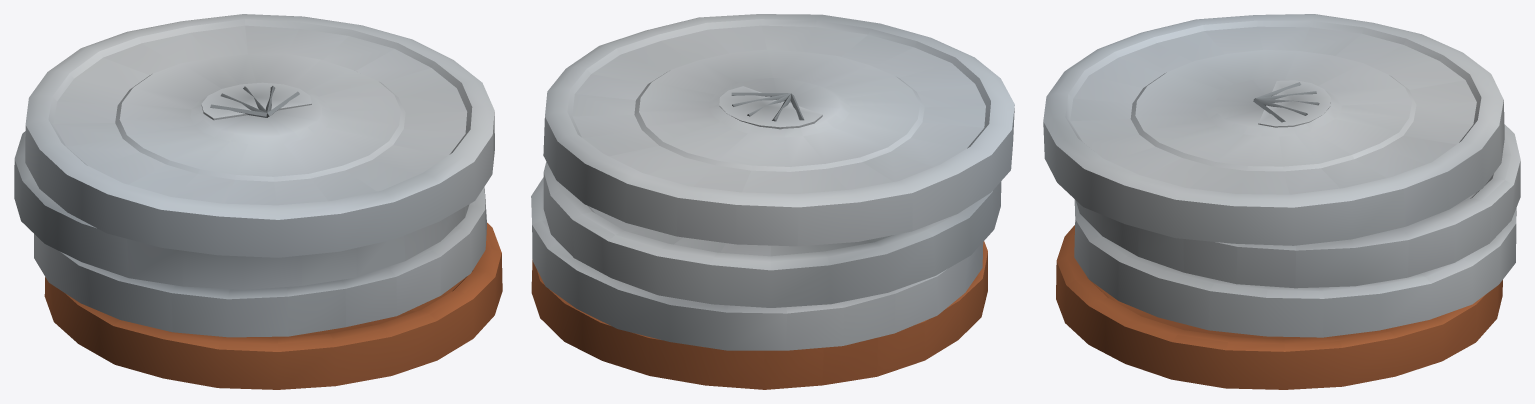
File: grotto_coin_pile_b.glb
3 renders of one model, left to right at view 1: azimuth 30°, elevation 25°; view 2: azimuth 150°, elevation 25°; view 3: azimuth 270°, elevation 25°, orthographic. The views are drawn at different scales.
Parts seen in each view (by area): view 1: grotto_coin_pile_b; view 2: grotto_coin_pile_b; view 3: grotto_coin_pile_b.
Boxes of the visible parts, x1,y1,x2,y2 form: grotto_coin_pile_b: [14, 14, 502, 389]; grotto_coin_pile_b: [531, 14, 1014, 389]; grotto_coin_pile_b: [1043, 14, 1520, 389].
Bounding box in the file's own units: 5.9 × 2.71 × 5.97.
